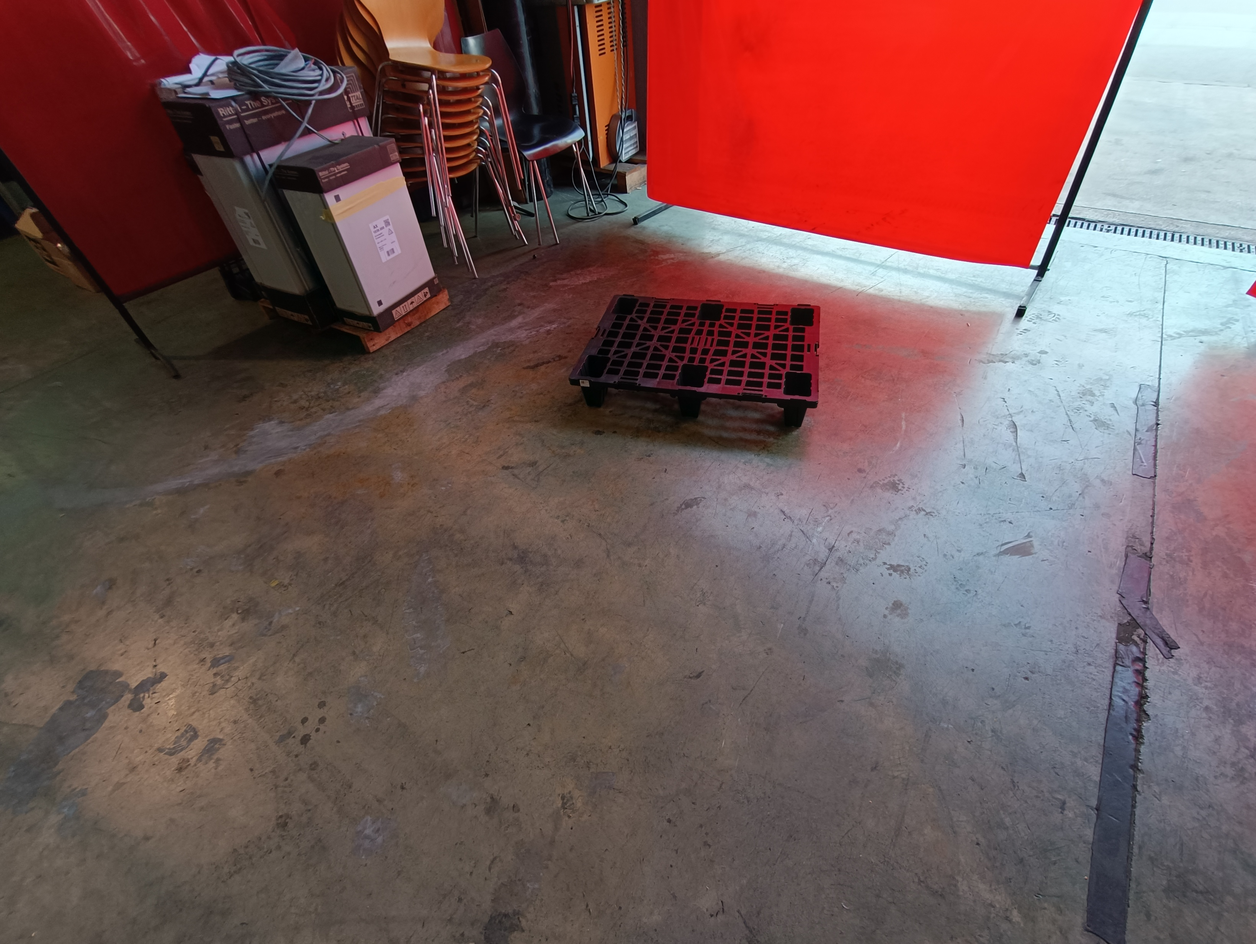block: (674, 388, 703, 421), (577, 381, 609, 410), (787, 399, 807, 425)
front: (569, 379, 819, 424)
hole pallet: (603, 389, 682, 417), (697, 398, 786, 420)
